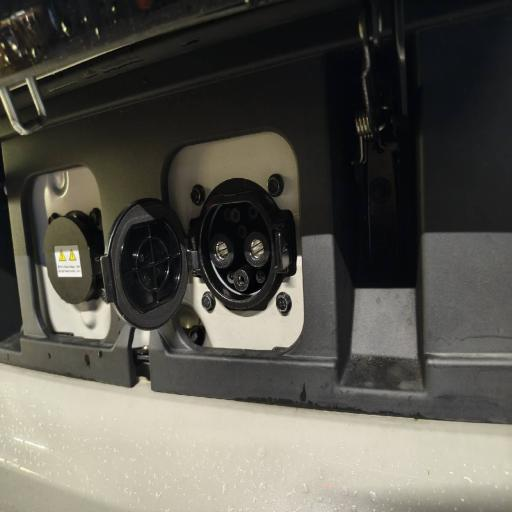DC_charging_port: (196, 190, 278, 312)
DC_hole: (243, 229, 271, 268), (208, 232, 236, 270)
PE: (232, 268, 250, 294)
